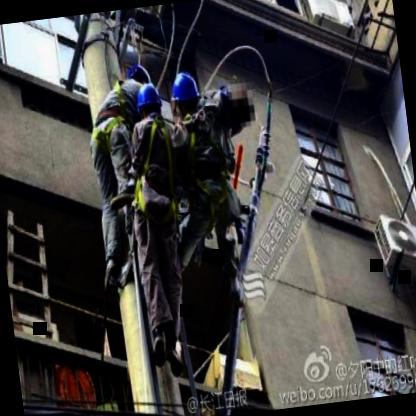helmet: (167, 66, 203, 121), (134, 80, 163, 122), (124, 58, 152, 90)
